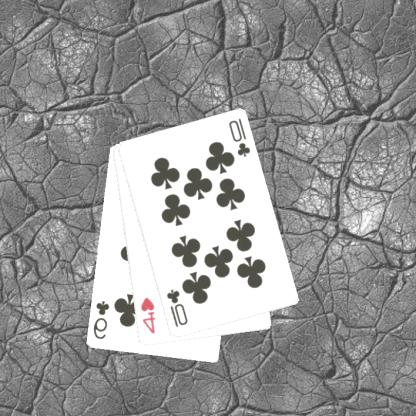10C: (165, 287, 191, 329), (228, 116, 254, 158)
4H: (139, 295, 158, 335)
6C: (92, 298, 112, 341)
